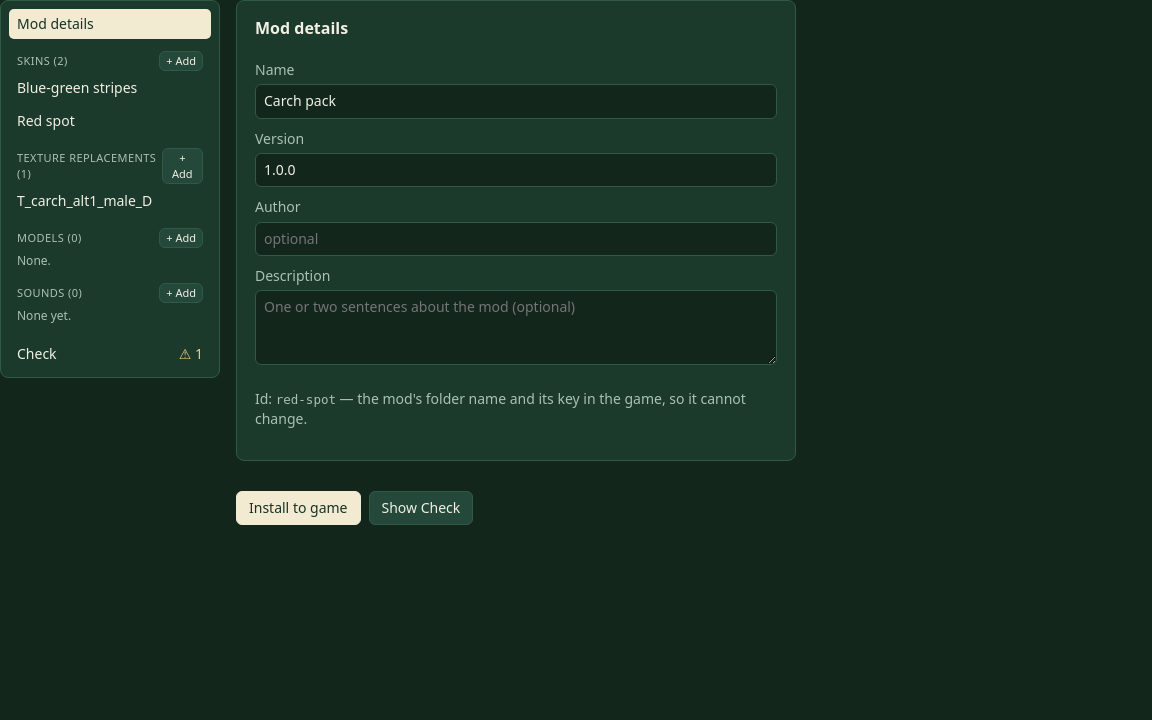
ModEditor › Texture replacements has + Add, and the replacement it adds is opened
The image size is (1152, 720).
Click the button with aria-label "Add a texture replacement". click: point(182, 166)
box: left=162, top=148, right=203, bottom=184
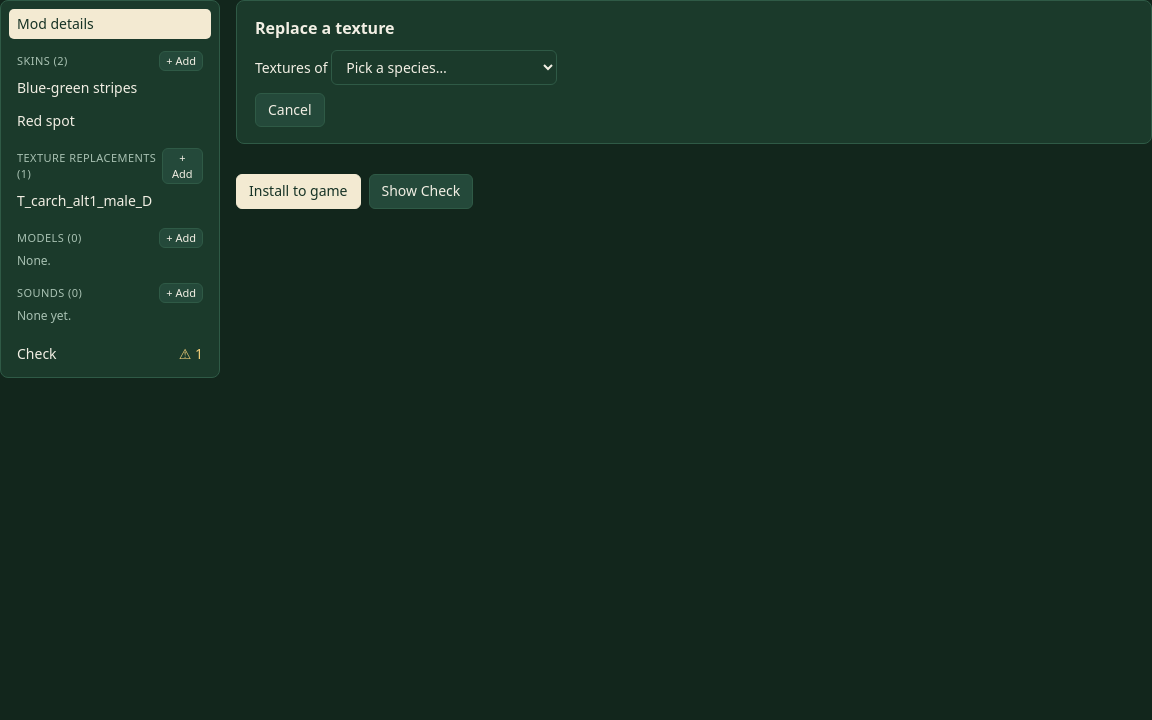
Check: the heading "Replace a texture" is shown, box left=255, top=17, right=394, bottom=39
Select "Carcharodontosaurus" in the dropdown labelled "Textures of". click: point(444, 68)
box: left=331, top=50, right=557, bottom=85
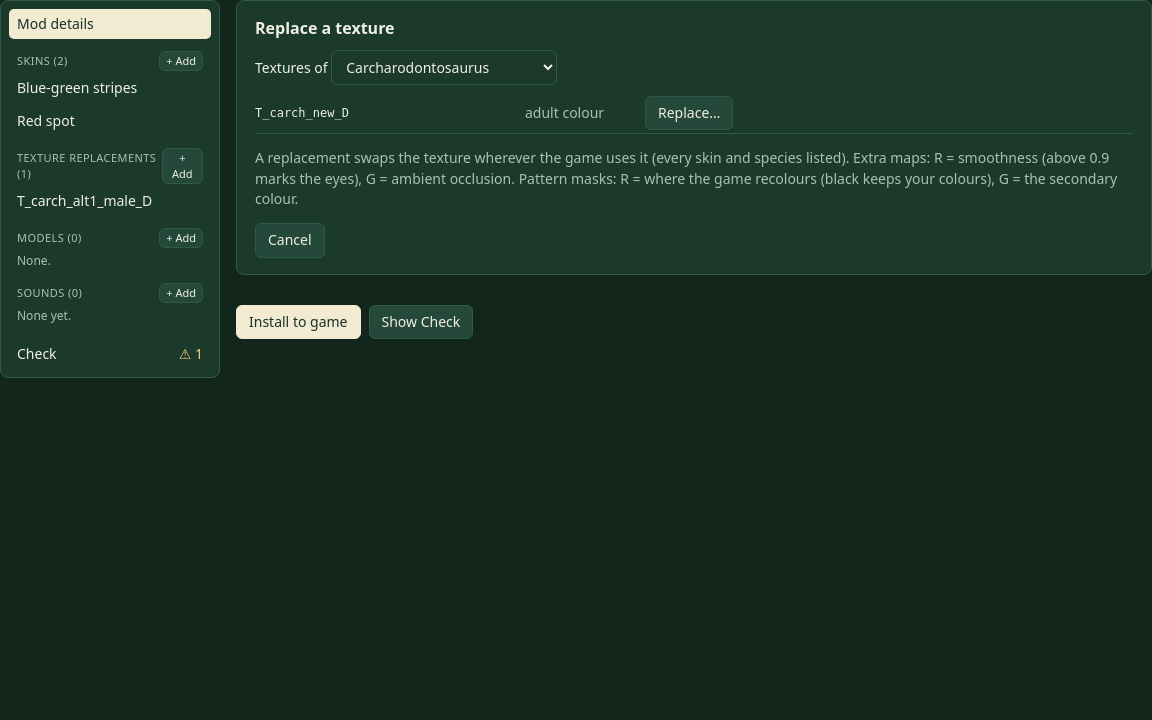
Click the button with aria-label "Replace T_carch_new_D". click: point(689, 113)
box: left=645, top=96, right=733, bottom=130
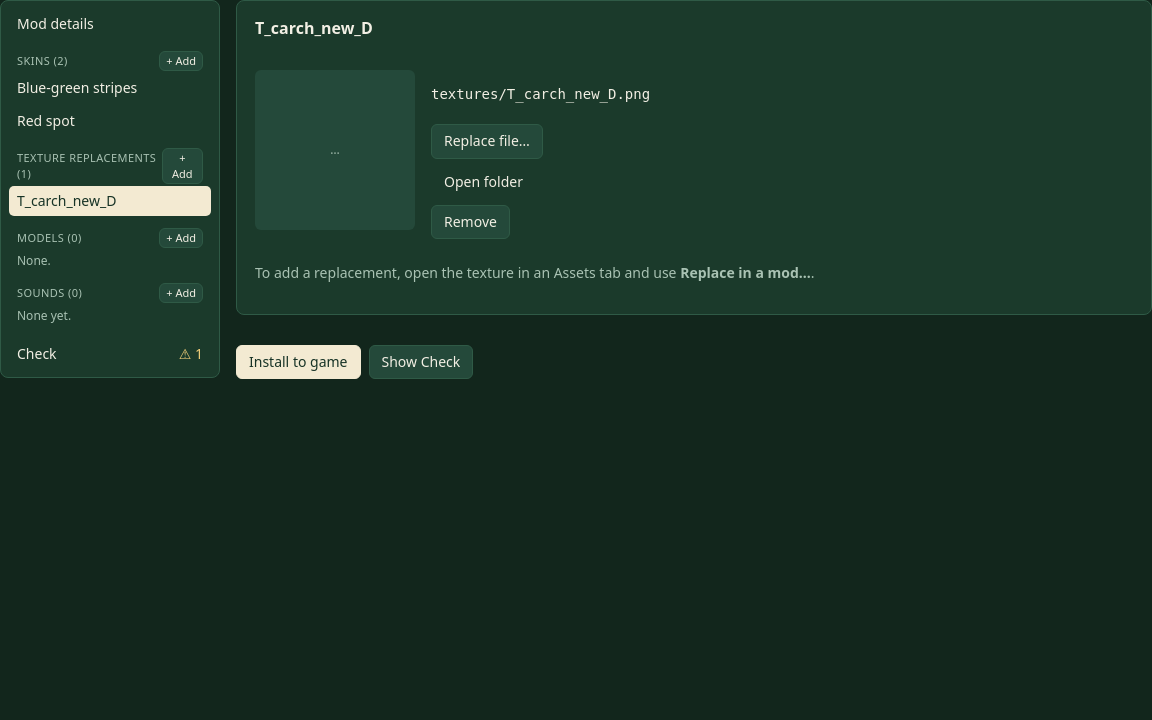
Check: the heading "Replace a texture" is gone
